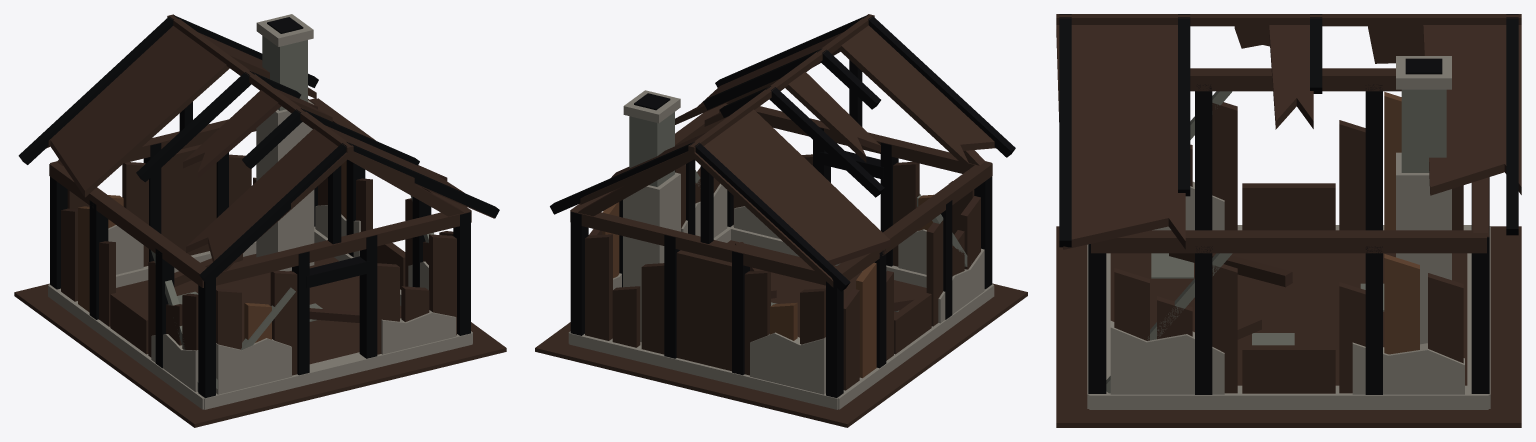
Rendered from house-burnt.glb.
3 views of the same model, side by side, from view 1: azimuth 30°, elevation 25°; view 2: azimuth 150°, elevation 25°; view 3: azimuth 270°, elevation 25° (orthographic). The views are drawn at different scales.
Visible parts, largest first — view 1: burnt_house_roof_left, burnt_house_wall_front, burnt_house_base, burnt_house_wall_left, burnt_house_wall_back, burnt_house_chimney, burnt_house_roof_right, burnt_house_wall_right; view 2: burnt_house_wall_back, burnt_house_roof_left, burnt_house_base, burnt_house_wall_left, burnt_house_wall_front, burnt_house_roof_right, burnt_house_chimney, burnt_house_wall_right; view 3: burnt_house_roof_right, burnt_house_wall_right, burnt_house_base, burnt_house_wall_left, burnt_house_chimney, burnt_house_roof_left, burnt_house_wall_back, burnt_house_wall_front.
Boxes of the visible parts, <box> form: burnt_house_roof_left: <box>18,14,353,284</box>; burnt_house_wall_front: <box>198,157,470,398</box>; burnt_house_base: <box>14,226,506,427</box>; burnt_house_wall_left: <box>49,163,206,391</box>; burnt_house_wall_back: <box>50,71,321,289</box>; burnt_house_chimney: <box>256,14,314,271</box>; burnt_house_roof_right: <box>167,15,499,218</box>; burnt_house_wall_right: <box>315,98,471,289</box>; burnt_house_wall_back: <box>570,156,843,397</box>; burnt_house_roof_left: <box>688,14,1015,291</box>; burnt_house_base: <box>535,225,1027,427</box>; burnt_house_wall_left: <box>835,163,992,390</box>; burnt_house_wall_front: <box>724,49,992,289</box>; burnt_house_roof_right: <box>550,15,874,214</box>; burnt_house_chimney: <box>623,90,680,341</box>; burnt_house_wall_right: <box>570,104,727,289</box>; burnt_house_roof_right: <box>1056,17,1521,249</box>; burnt_house_wall_right: <box>1091,230,1486,394</box>; burnt_house_base: <box>1056,225,1521,427</box>; burnt_house_wall_left: <box>1152,68,1463,230</box>; burnt_house_chimney: <box>1396,56,1451,344</box>; burnt_house_roof_left: <box>1056,14,1521,63</box>; burnt_house_wall_back: <box>1471,177,1489,393</box>; burnt_house_wall_front: <box>1088,244,1106,393</box>.
Size of the model in its own units: 2 by 1.49 by 2.
